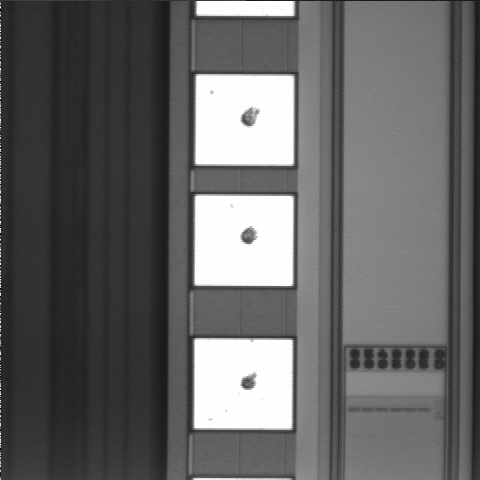pad: (195, 74, 294, 166), (194, 338, 293, 429), (195, 195, 293, 286)
